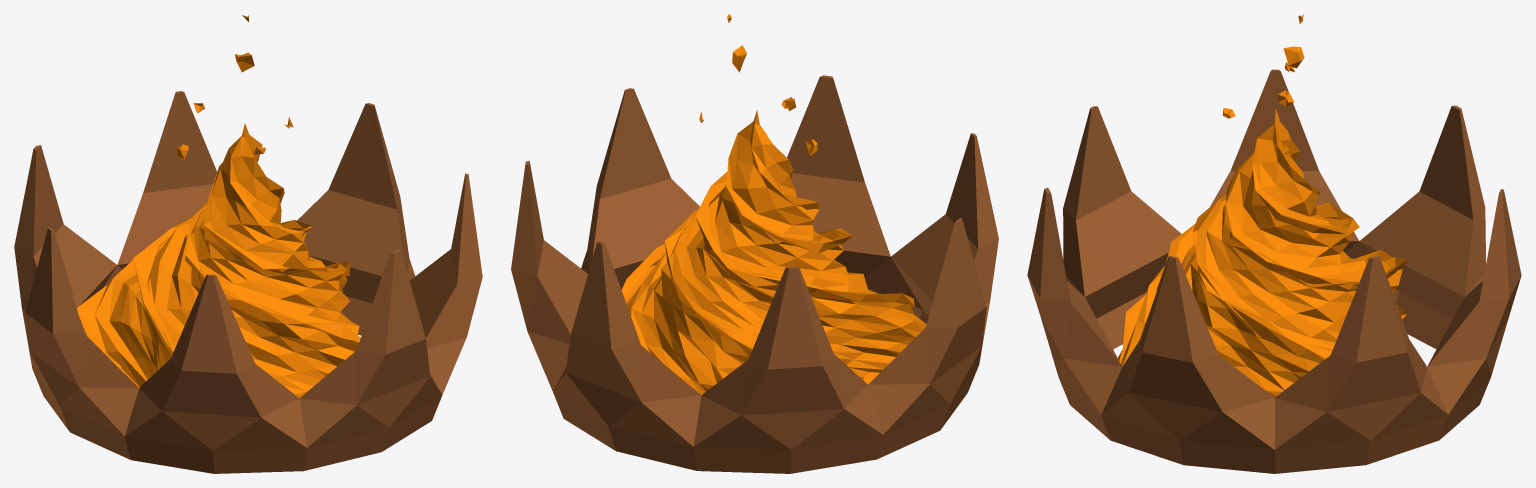
The model's file is FIRE_CROWN.dae.
The picture shows the model from 3 angles, left to right: view 1: azimuth 30°, elevation 25°; view 2: azimuth 150°, elevation 25°; view 3: azimuth 270°, elevation 25°; orthographic projection. The views are drawn at different scales.
Parts seen in each view (by area): view 1: Cone; view 2: Cone; view 3: Cone.
Boxes of the visible parts, left/top/right/bottom form: Cone: left=14, top=15, right=482, bottom=473; Cone: left=511, top=14, right=998, bottom=473; Cone: left=1027, top=14, right=1521, bottom=473.
Bounding box in the file's own units: 2.06 × 2.11 × 1.78.
